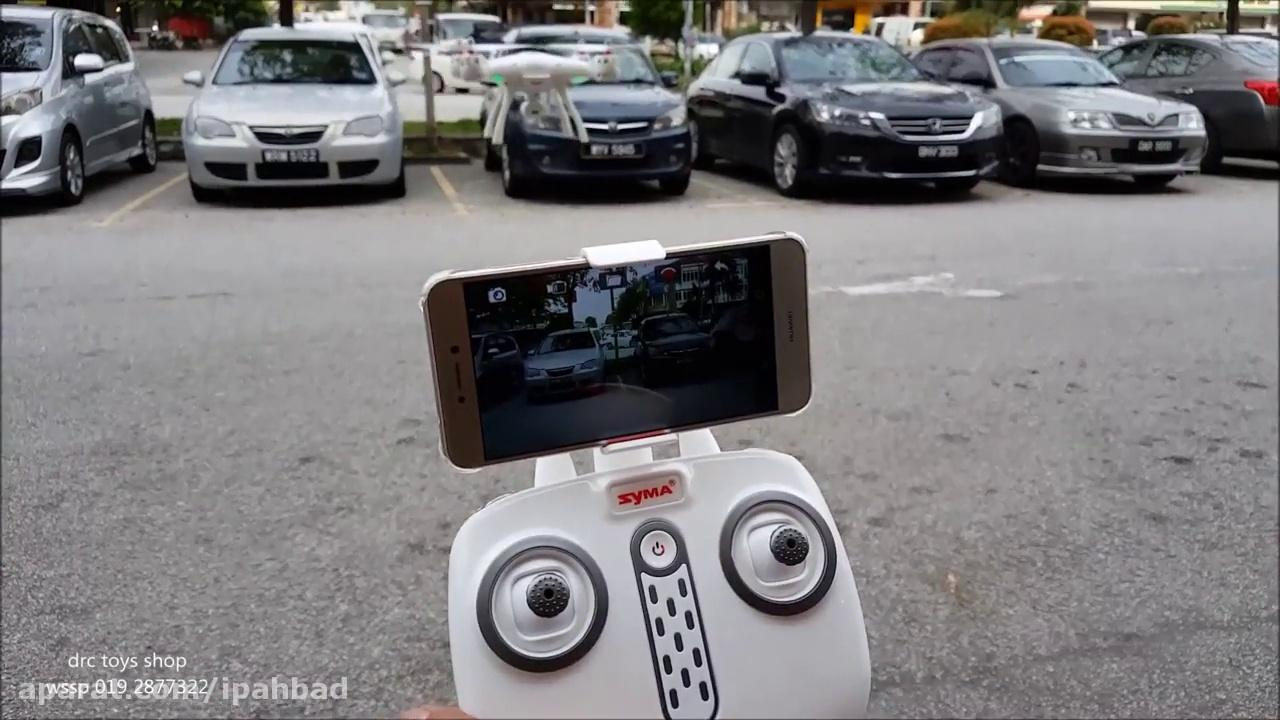drone: (450, 31, 616, 145)
